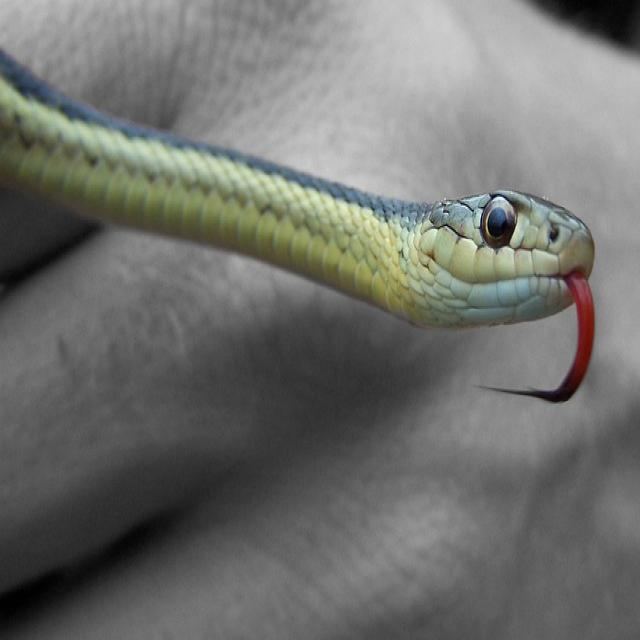Carnivorous: (0, 47, 596, 399)
